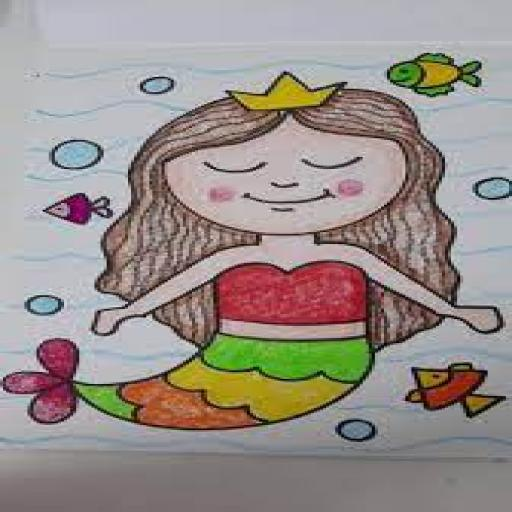person: (3, 66, 512, 458)
